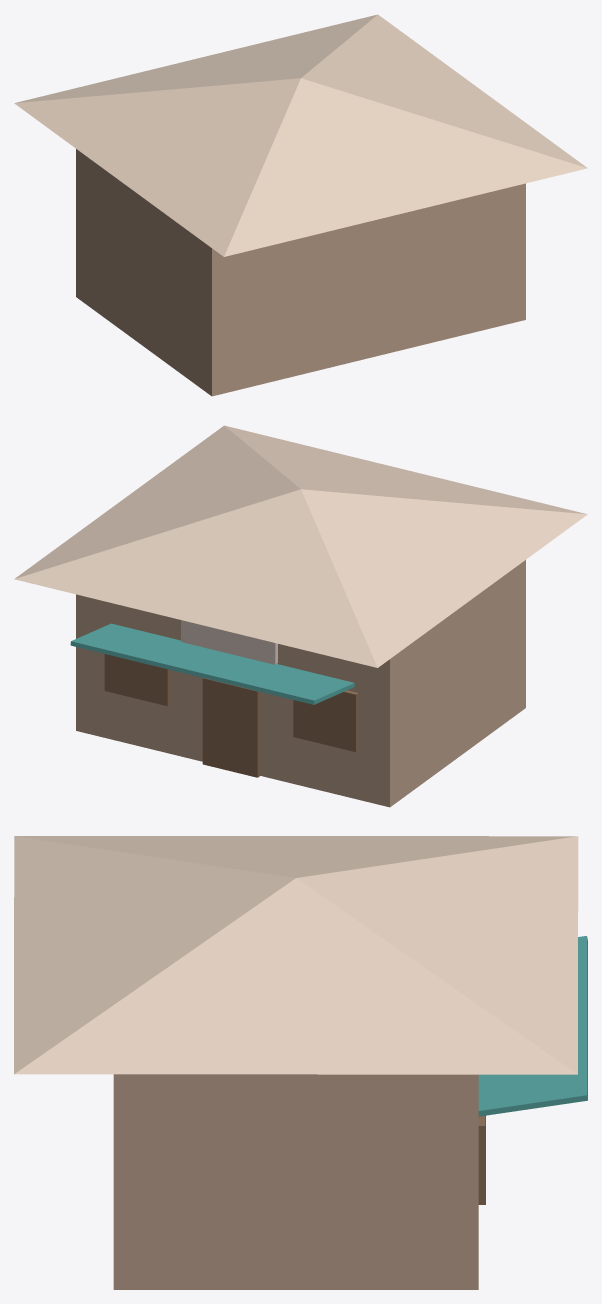
File: nervix_cafe.glb
3 renders of one model, top to bottom at view 1: azimuth 30°, elevation 25°; view 2: azimuth 150°, elevation 25°; view 3: azimuth 270°, elevation 25°, orthographic. The views are drawn at different scales.
Parts seen in each view (by area): view 1: cafe_roof, cafe; view 2: cafe_roof, cafe, cafe_awning, cafe_door, cafe_w1_frame, cafe_w2_frame, cafe_sign; view 3: cafe_roof, cafe, cafe_awning, cafe_w2_frame.
Boxes of the visible parts, x1,y1,x2,y2 form: cafe_roof: (14,14,587,256); cafe: (76,149,525,396); cafe_roof: (14,425,587,667); cafe: (76,560,525,807); cafe_awning: (70,623,354,704); cafe_door: (202,678,260,777); cafe_w1_frame: (293,690,358,752); cafe_w2_frame: (104,654,169,706); cafe_sign: (181,620,277,664); cafe_roof: (14,836,578,1074); cafe: (113,1074,478,1289); cafe_awning: (478,936,587,1116); cafe_w2_frame: (478,1116,485,1202).
Bounding box in the file's own units: 9.27 × 5.6 × 9.43.
